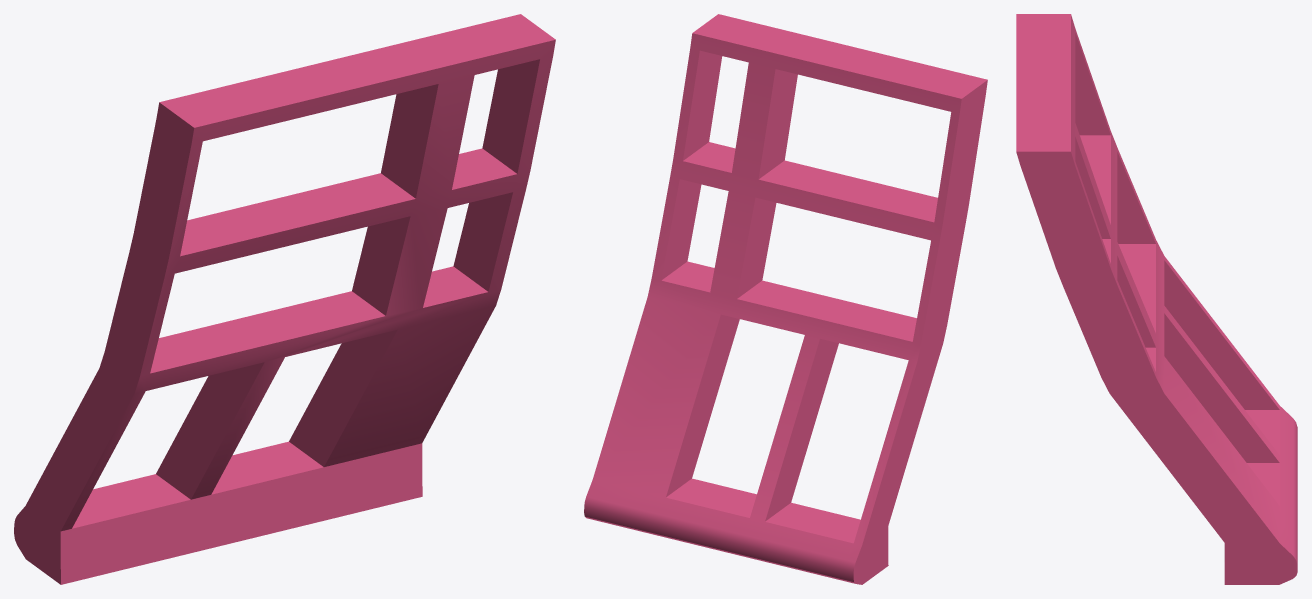
The model's file is RightPedal.fbx.
3 renders of one model, left to right at view 1: azimuth 30°, elevation 25°; view 2: azimuth 150°, elevation 25°; view 3: azimuth 270°, elevation 25°, orthographic. The views are drawn at different scales.
Parts seen in each view (by area): view 1: RightPedal; view 2: RightPedal; view 3: RightPedal.
Boxes of the visible parts, left/top/right/bottom form: RightPedal: left=14, top=14, right=555, bottom=584; RightPedal: left=584, top=14, right=987, bottom=584; RightPedal: left=1016, top=14, right=1297, bottom=584.
Bounding box in the file's own units: 12.76 × 18.71 × 11.02.
